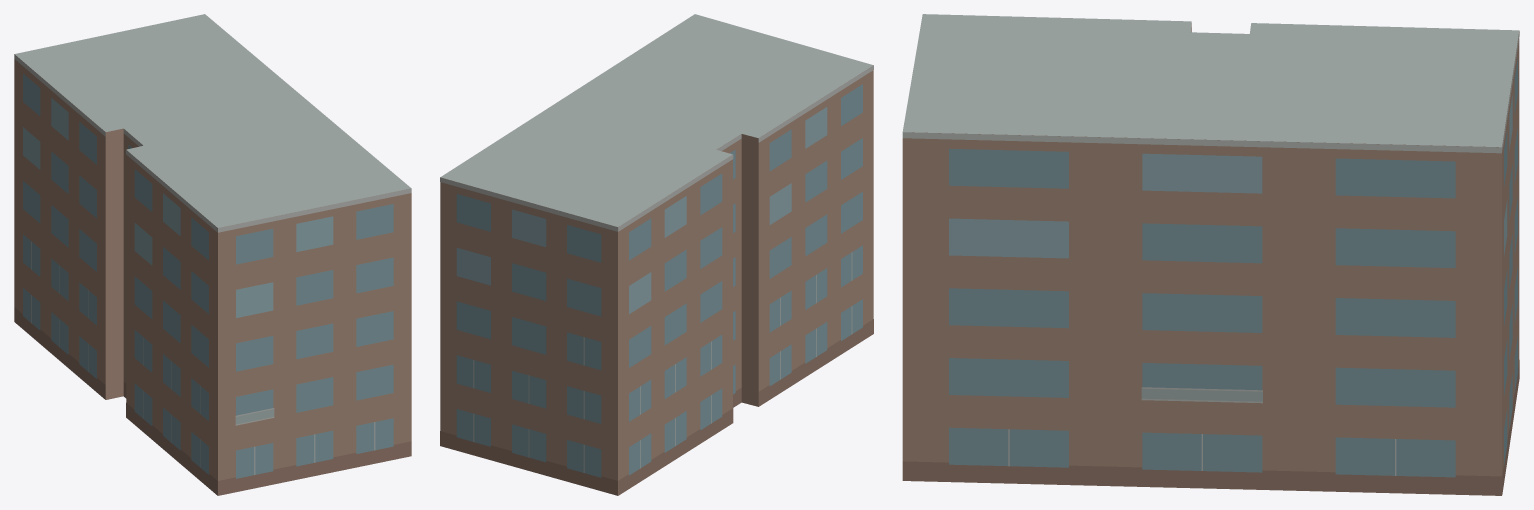
File: survey-upis-33022891.glb
3 renders of one model, left to right at view 1: azimuth 30°, elevation 25°; view 2: azimuth 150°, elevation 25°; view 3: azimuth 270°, elevation 25°, orthographic. The views are drawn at different scales.
Visible parts, largest first — view 1: survey-upis-33022891.tmp; view 2: survey-upis-33022891.tmp; view 3: survey-upis-33022891.tmp.
Boxes of the visible parts, x1=… form: survey-upis-33022891.tmp: x1=14, y1=14, x2=411, y2=495; survey-upis-33022891.tmp: x1=440, y1=14, x2=873, y2=495; survey-upis-33022891.tmp: x1=902, y1=14, x2=1519, y2=495.
Size of the model in its own units: 11.44 by 13.95 by 22.37.
